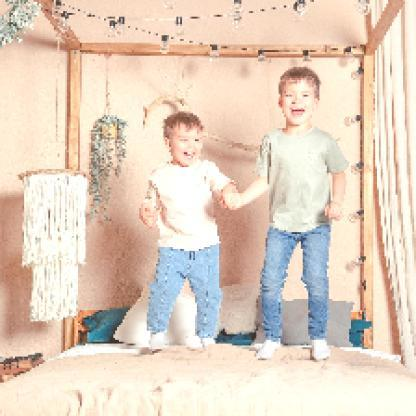child: (220, 65, 352, 364), (139, 111, 240, 351)
